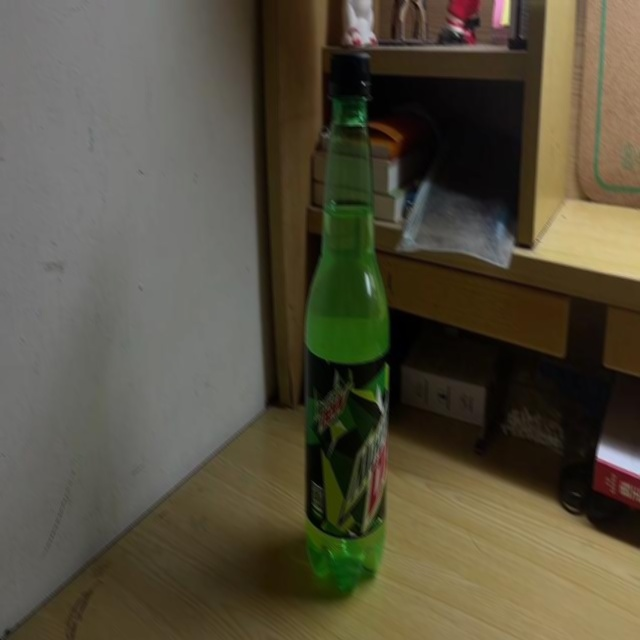Mountain-Dew: (302, 48, 388, 594)
